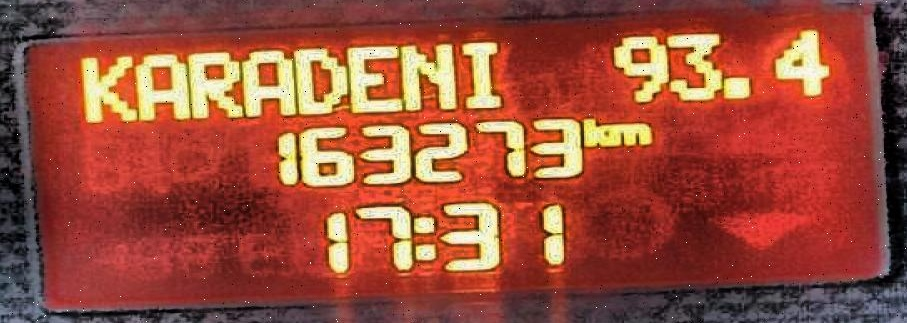-: (718, 72, 752, 102)
1: (529, 196, 570, 269), (315, 204, 349, 276), (268, 128, 297, 188)
2: (410, 119, 470, 184)
3: (435, 196, 504, 275), (667, 29, 720, 104), (354, 120, 410, 186), (529, 115, 580, 179)
4: (769, 24, 830, 99)
6: (297, 123, 352, 188)
7: (350, 201, 410, 274), (469, 116, 525, 180)
9: (605, 31, 667, 104)
X: (74, 49, 135, 125), (400, 38, 459, 112), (345, 39, 399, 115), (239, 45, 294, 119), (293, 43, 347, 117), (133, 49, 187, 123), (189, 49, 240, 121), (460, 36, 500, 110), (607, 118, 652, 148), (412, 211, 435, 264), (580, 114, 607, 149)
